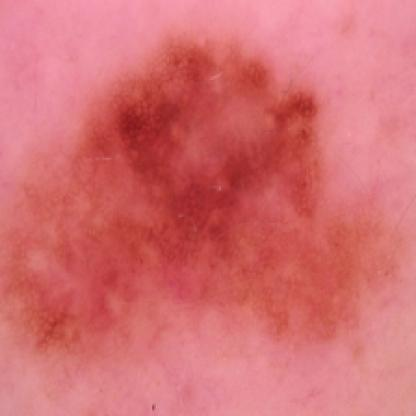benign: (33, 46, 368, 338)
